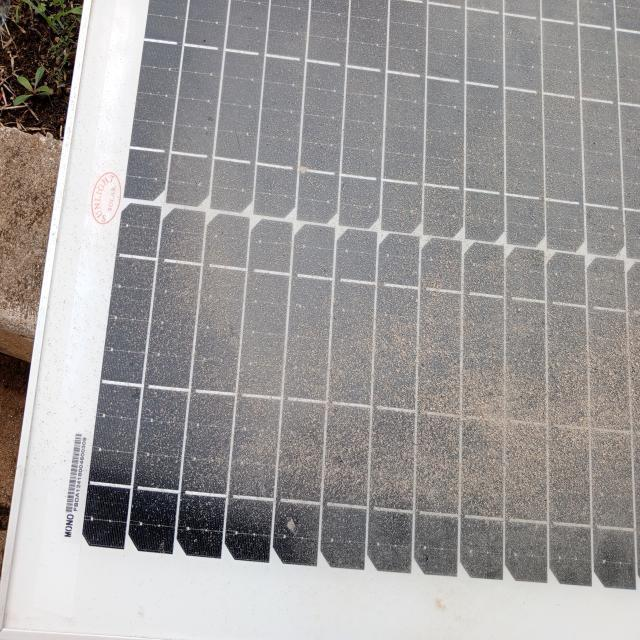Surface Contaminant: (149, 2, 636, 593)
